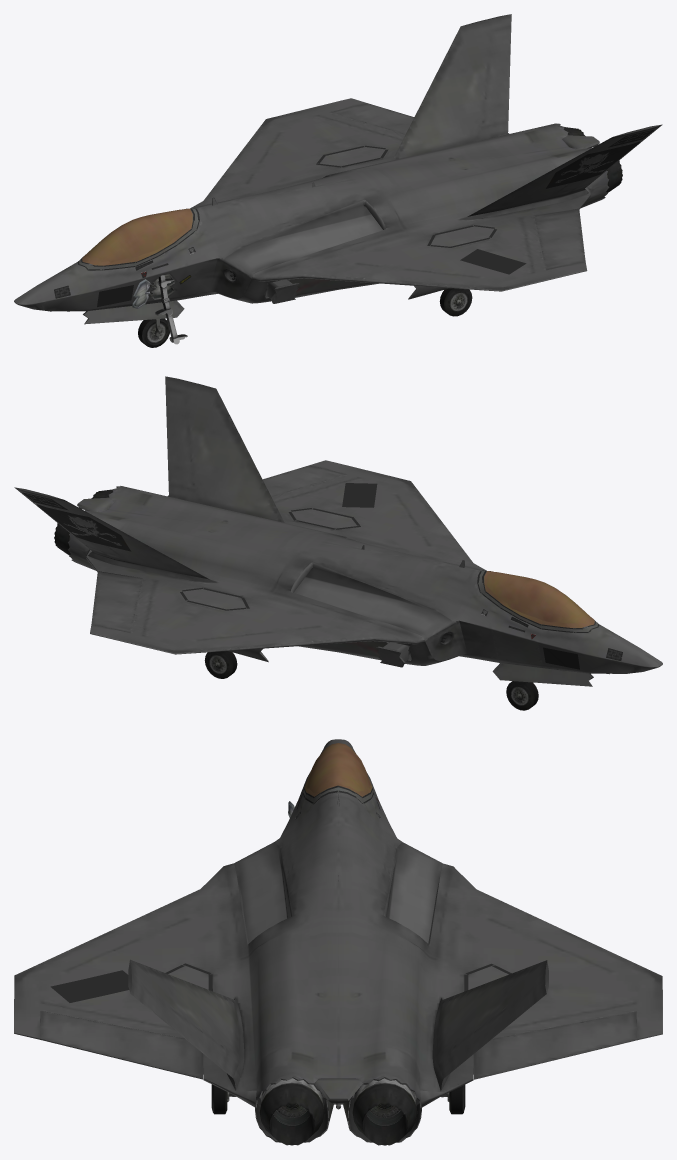
3 views of the same model, one above another, from view 1: azimuth 30°, elevation 25°; view 2: azimuth 150°, elevation 25°; view 3: azimuth 270°, elevation 25° (orthographic). The views are drawn at different scales.
Parts seen in each view (by area): view 1: Object_2, Object_14, Object_12, Object_11, Object_20, Object_6, Object_8; view 2: Object_2, Object_14, Object_12, Object_11, Object_20, Object_6; view 3: Object_2, Object_14, Object_11.
Part boxes in pixels (<box>): Object_2: <box>14,14,662,347</box>; Object_14: <box>84,209,189,262</box>; Object_12: <box>54,130,653,298</box>; Object_11: <box>97,145,526,307</box>; Object_20: <box>77,208,199,270</box>; Object_6: <box>82,208,192,265</box>; Object_8: <box>78,208,199,270</box>; Object_2: <box>14,376,662,710</box>; Object_14: <box>487,571,592,623</box>; Object_12: <box>22,492,622,660</box>; Object_11: <box>180,483,579,669</box>; Object_20: <box>477,570,599,633</box>; Object_6: <box>484,571,594,627</box>; Object_2: <box>14,739,662,1145</box>; Object_14: <box>306,743,370,793</box>; Object_11: <box>50,963,511,1002</box>.
Size of the model in its own units: 2.5 by 0.7058 by 1.75.
Materials: 13 (11 with a texture image).
